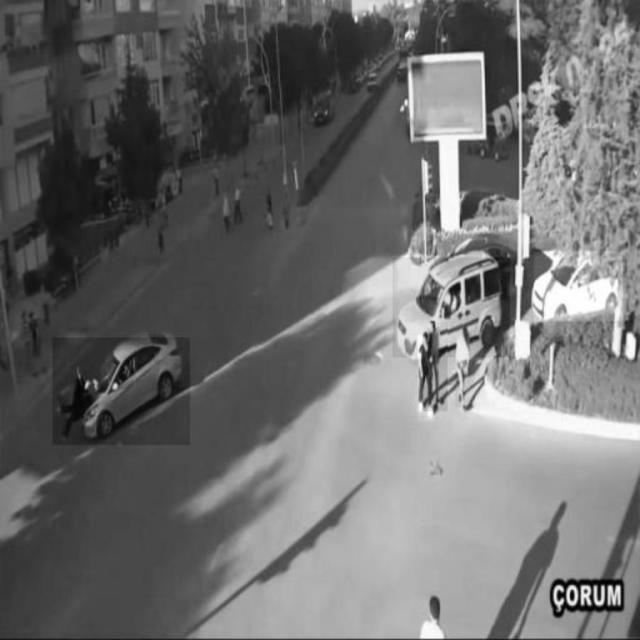accident: (53, 337, 190, 445)
person: (423, 322, 448, 412), (455, 321, 475, 407), (417, 336, 435, 422)
vehicle: (393, 257, 511, 357), (534, 252, 622, 322)
